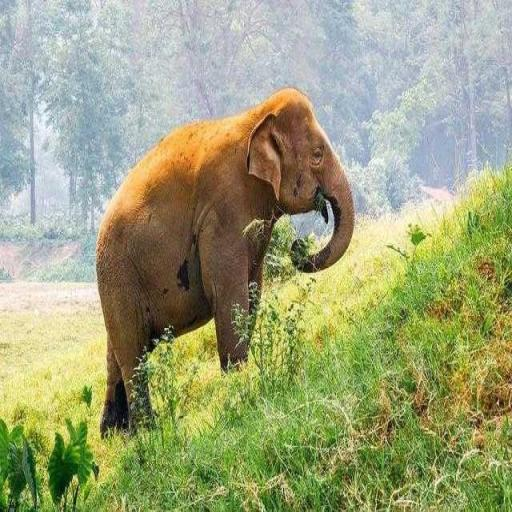Elephant: (94, 85, 356, 439)
